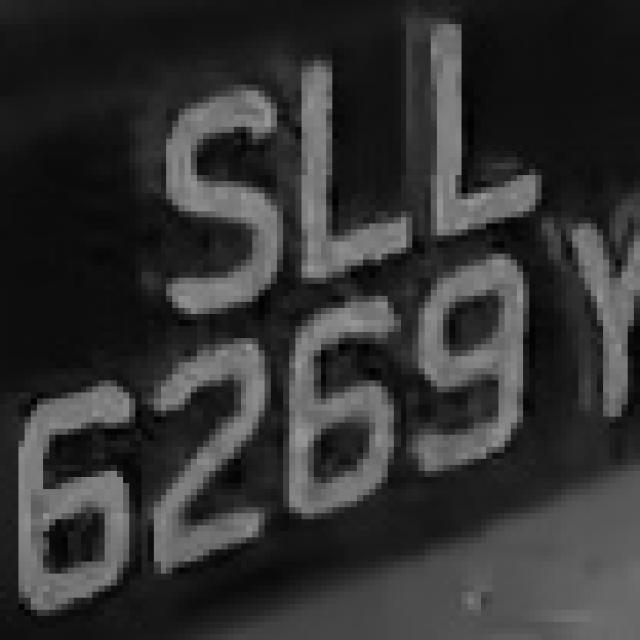2: (141, 326, 277, 574)
6: (0, 374, 148, 634), (283, 290, 400, 537)
9: (394, 254, 541, 483)
L: (388, 18, 548, 266), (283, 54, 419, 308)
S: (123, 60, 295, 332)
Y: (541, 199, 640, 458)
